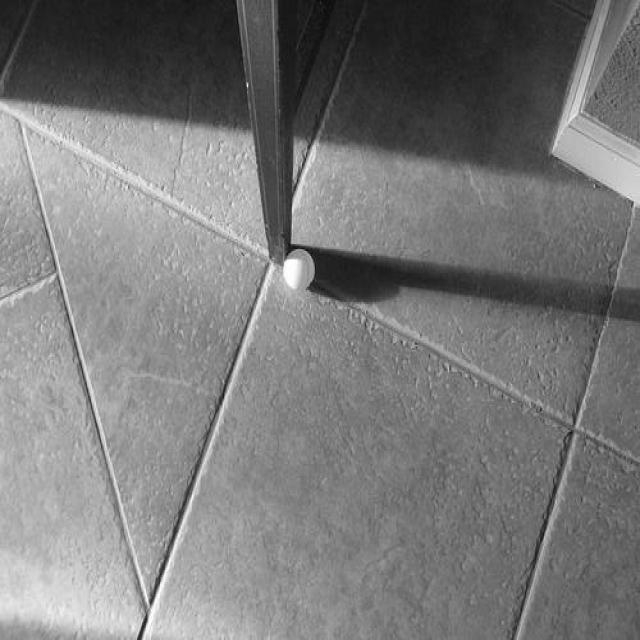ping-pong-ball: (284, 248, 316, 292)
